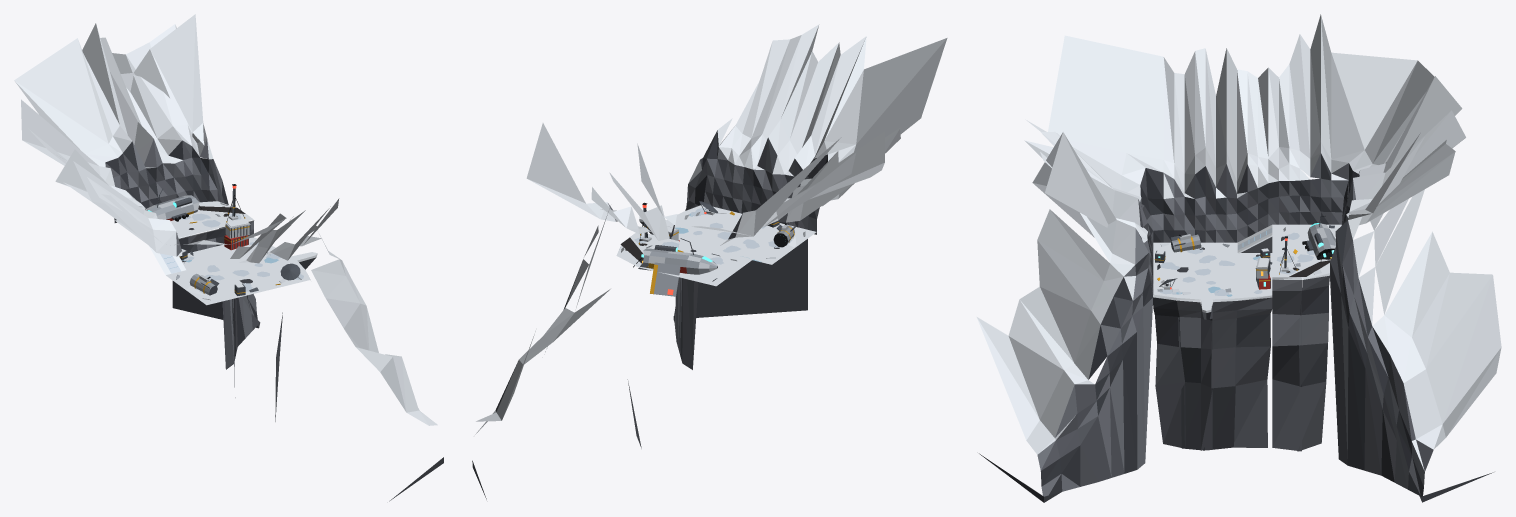
Rendered from summit.glb.
The picture shows the model from 3 angles, left to right: view 1: azimuth 30°, elevation 25°; view 2: azimuth 150°, elevation 25°; view 3: azimuth 270°, elevation 25°; orthographic projection. The views are drawn at different scales.
Visible parts, largest first — view 1: Summit; view 2: Summit; view 3: Summit.
Boxes of the visible parts, x1,y1,x2,y2 form: Summit: (14, 14, 443, 501); Summit: (472, 24, 947, 499); Summit: (976, 14, 1501, 502).
Size of what is drawn, in the model's own units: 34.91 by 38.73 by 52.92.
